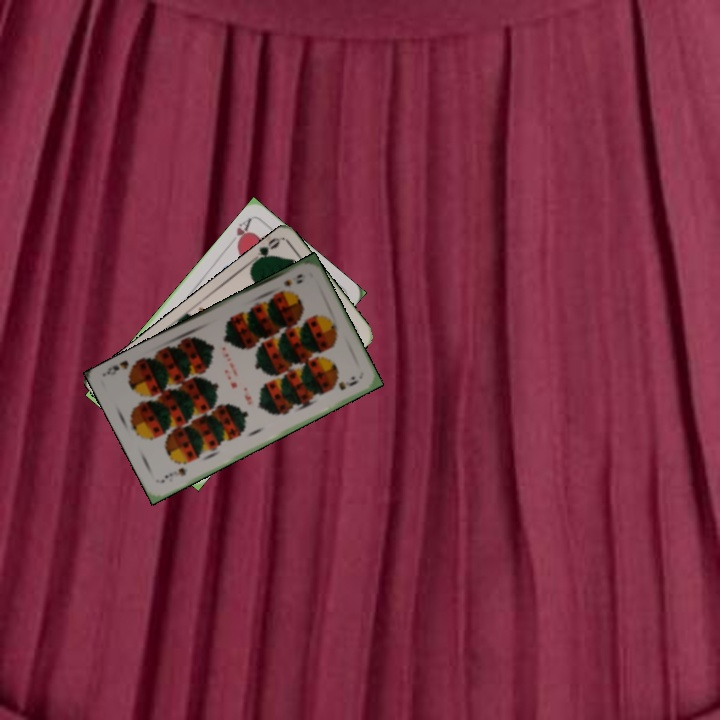GO: (247, 234, 283, 267)
HA: (225, 214, 254, 250)
S9: (157, 463, 189, 486), (280, 270, 306, 289)
